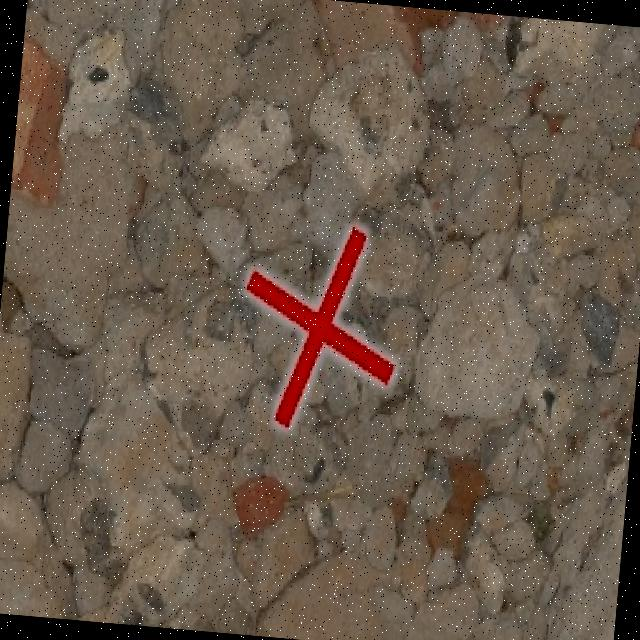x_marker: (234, 219, 405, 434)
